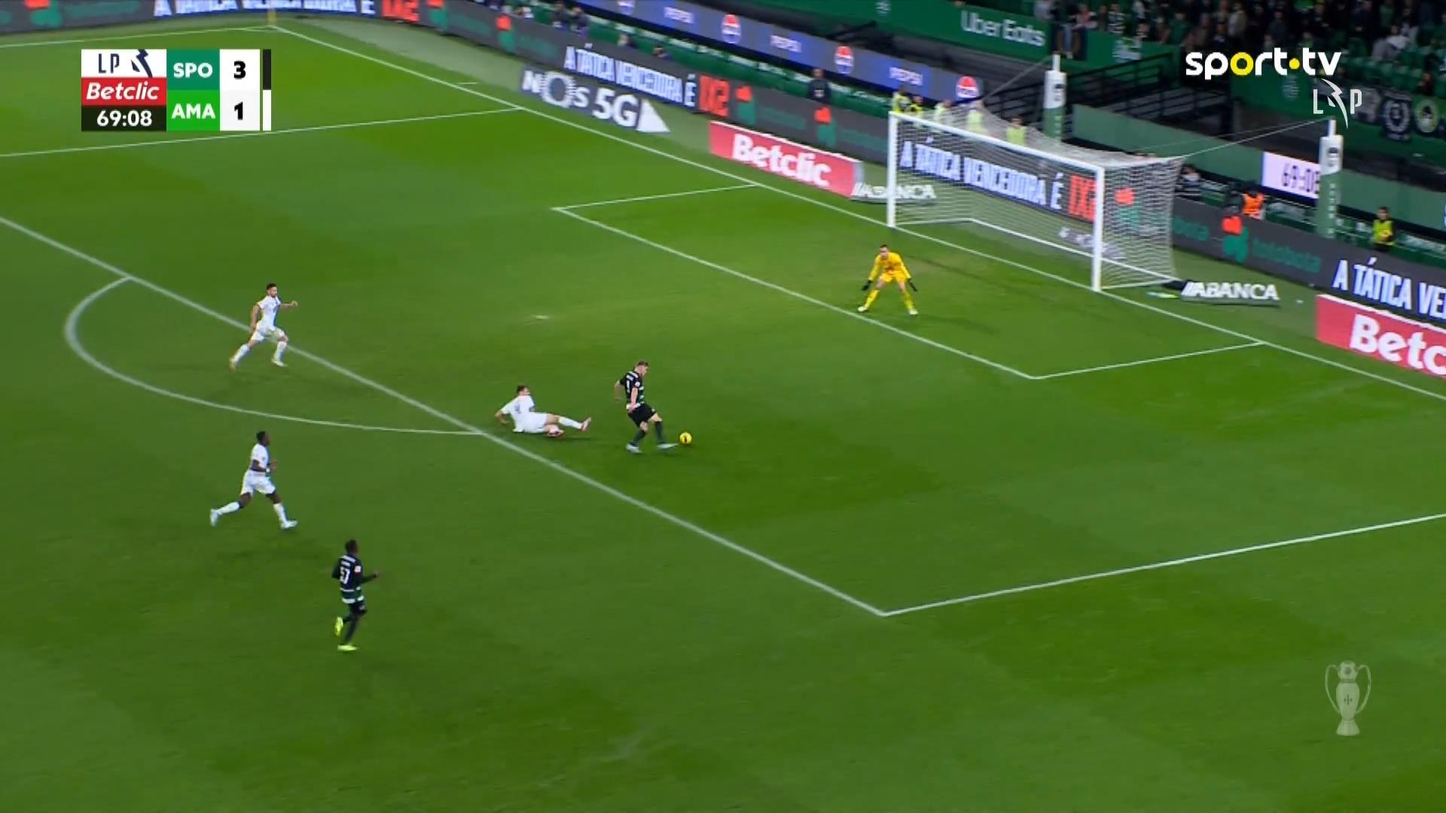ball: (238, 492, 252, 507), (679, 431, 692, 445)
goalkeeper: (856, 242, 919, 315)
player: (208, 429, 298, 530), (227, 281, 298, 371), (613, 359, 678, 454), (330, 537, 379, 651), (493, 383, 592, 438)
